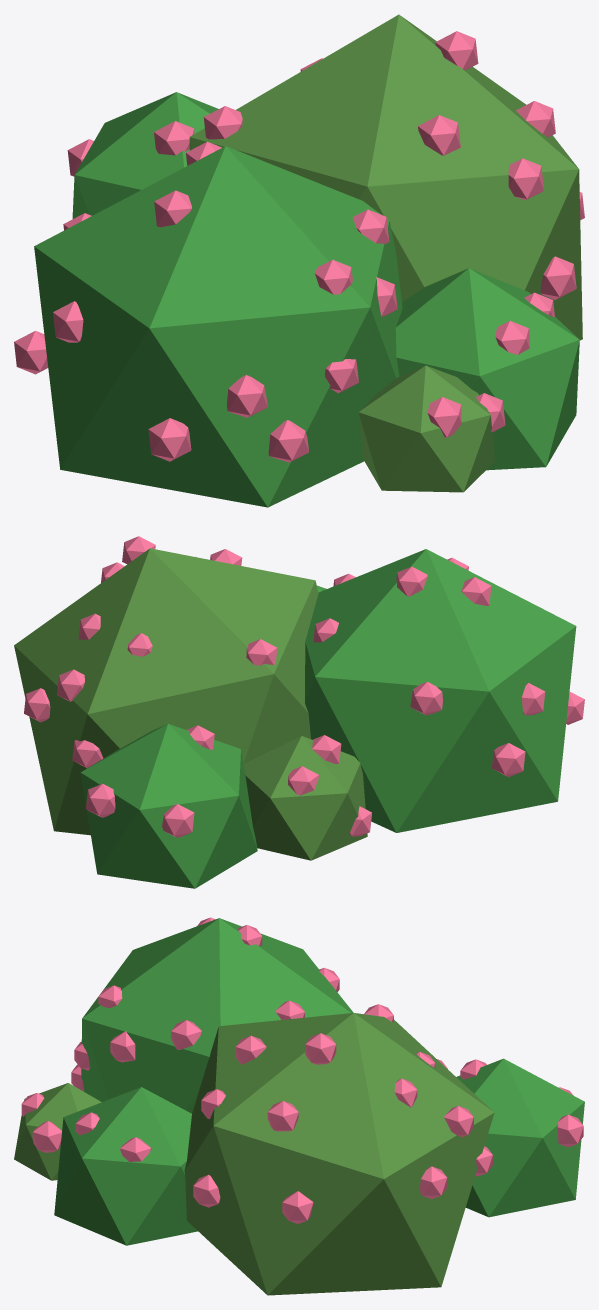
Rendered from BigFoodBush.fbx.
3 views of the same model, one above another, from view 1: azimuth 30°, elevation 25°; view 2: azimuth 150°, elevation 25°; view 3: azimuth 270°, elevation 25° (orthographic). The views are drawn at different scales.
Parts seen in each view (by area): view 1: Icosphere.004, Icosphere.003; view 2: Icosphere.004, Icosphere.003; view 3: Icosphere.004, Icosphere.003.
Boxes of the visible parts, x1,y1,x2,y2 form: Icosphere.004: (34, 14, 582, 507); Icosphere.003: (14, 31, 584, 462); Icosphere.004: (14, 548, 576, 888); Icosphere.003: (24, 536, 584, 837); Icosphere.004: (14, 918, 584, 1295); Icosphere.003: (21, 917, 583, 1223).
Size of the model in its own units: 352 by 192 by 397.
